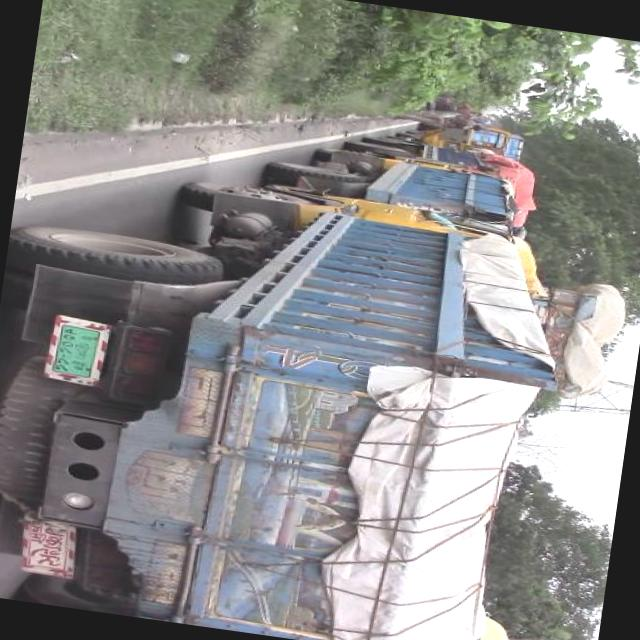truck: (0, 155, 622, 640), (262, 142, 540, 225), (342, 113, 543, 178)
